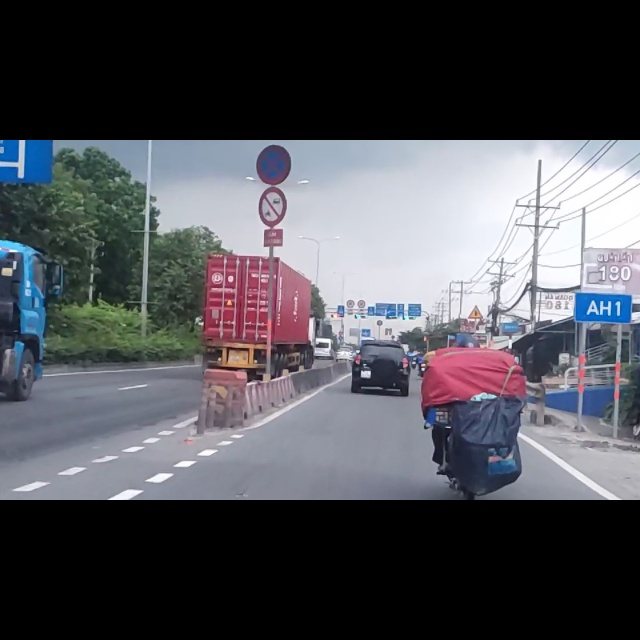bien_hieu_lenh: (255, 9, 292, 78), (257, 84, 287, 153)
